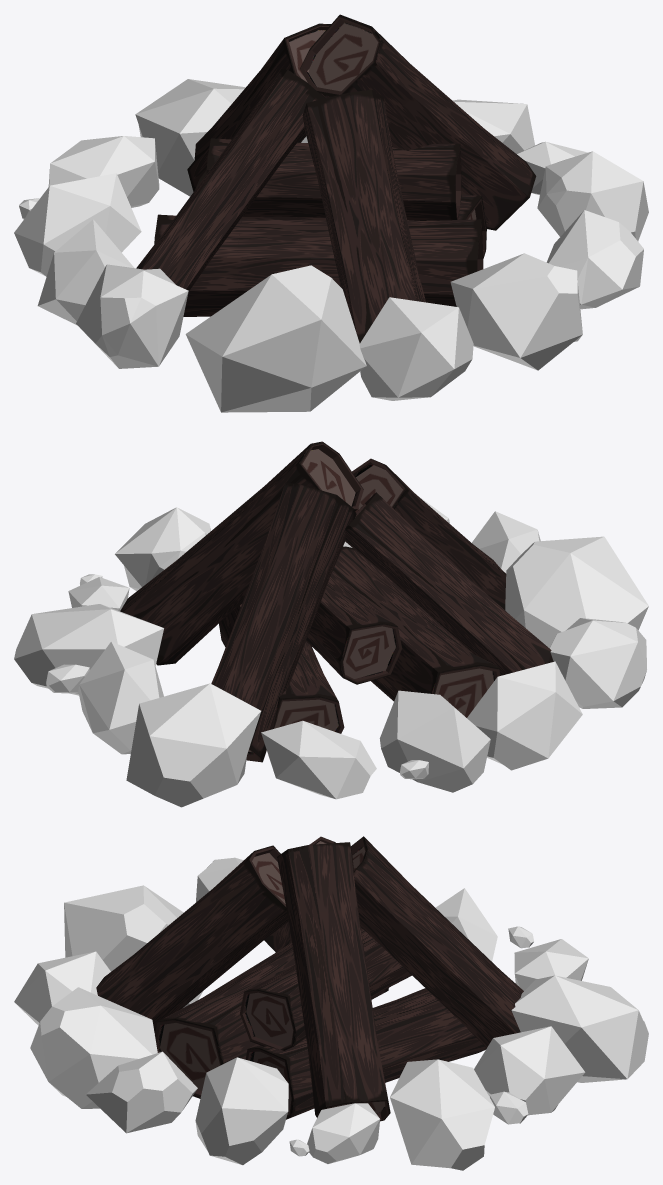
File: Campfire.glb
3 views of the same model, one above another, from view 1: azimuth 30°, elevation 25°; view 2: azimuth 150°, elevation 25°; view 3: azimuth 270°, elevation 25° (orthographic). The views are drawn at different scales.
Parts seen in each view (by area): view 1: 棱角球.011, 立方体.004, 立方体.003, 立方体.007, 立方体.005, 棱角球.010, 棱角球.013, 立方体.008, 棱角球.009, 棱角球.006, 棱角球.012, 棱角球 (+7 smaller); view 2: 立方体.002, 立方体.003, 立方体.005, 棱角球, 棱角球.011, 立方体.007, 棱角球.008, 棱角球.006, 棱角球.002, 棱角球.009, 立方体.008, 棱角球.005 (+7 smaller); view 3: 立方体.003, 立方体.004, 立方体.002, 棱角球, 棱角球.010, 棱角球.002, 立方体.006, 棱角球.012, 立方体.007, 棱角球.011, 棱角球.001, 棱角球.015 (+8 smaller).
Part boxes in pixels (x1=…): 棱角球.011: x1=185, y1=265, x2=366, y2=412; 立方体.004: x1=302, y1=89, x2=426, y2=343; 立方体.003: x1=300, y1=14, x2=536, y2=230; 立方体.007: x1=154, y1=214, x2=483, y2=316; 立方体.005: x1=136, y1=69, x2=324, y2=291; 棱角球.010: x1=450, y1=253, x2=582, y2=370; 棱角球.013: x1=359, y1=297, x2=473, y2=400; 立方体.008: x1=206, y1=138, x2=461, y2=220; 棱角球.009: x1=76, y1=264, x2=188, y2=368; 棱角球.006: x1=14, y1=173, x2=141, y2=276; 棱角球.012: x1=537, y1=151, x2=648, y2=241; 棱角球: x1=135, y1=79, x2=245, y2=196; 立方体.002: x1=211, y1=482, x2=356, y2=762; 立方体.003: x1=120, y1=441, x2=363, y2=665; 立方体.005: x1=345, y1=492, x2=553, y2=675; 棱角球: x1=126, y1=683, x2=261, y2=807; 棱角球.011: x1=505, y1=536, x2=648, y2=647; 立方体.007: x1=333, y1=546, x2=500, y2=717; 棱角球.008: x1=467, y1=661, x2=582, y2=770; 棱角球.006: x1=379, y1=690, x2=490, y2=792; 棱角球.002: x1=14, y1=604, x2=163, y2=695; 棱角球.009: x1=549, y1=618, x2=646, y2=708; 立方体.008: x1=306, y1=571, x2=402, y2=684; 棱角球.005: x1=261, y1=720, x2=376, y2=799; 立方体.003: x1=277, y1=842, x2=390, y2=1121; 立方体.004: x1=96, y1=845, x2=288, y2=1033; 立方体.002: x1=351, y1=836, x2=523, y2=1047; 棱角球: x1=511, y1=975, x2=648, y2=1082; 棱角球.010: x1=30, y1=987, x2=157, y2=1108; 棱角球.002: x1=390, y1=1059, x2=494, y2=1170; 立方体.006: x1=245, y1=988, x2=486, y2=1119; 棱角球.012: x1=195, y1=1057, x2=288, y2=1165; 立方体.007: x1=155, y1=942, x2=388, y2=1098; 棱角球.011: x1=64, y1=885, x2=202, y2=1007; 棱角球.001: x1=474, y1=1026, x2=585, y2=1115; 棱角球.015: x1=86, y1=1051, x2=197, y2=1133.
Size of the model in its own units: 4.77 by 2.25 by 5.01.
Materials: 1 (1 with a texture image).
